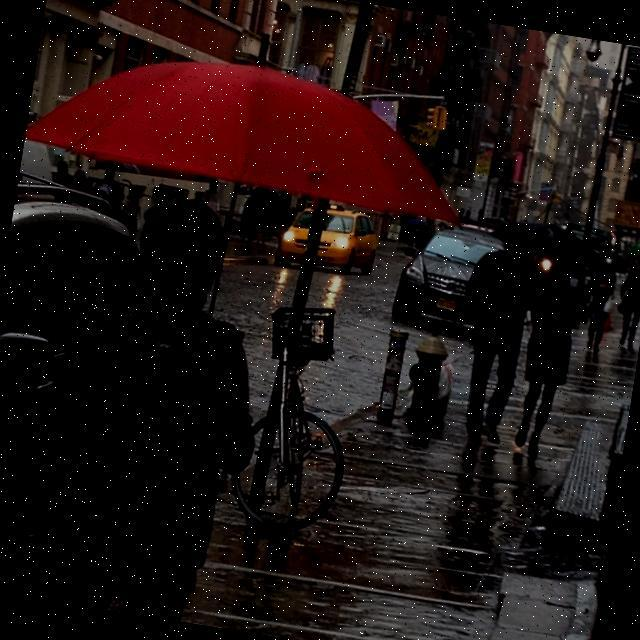fire_hydrant: (401, 326, 451, 424)
